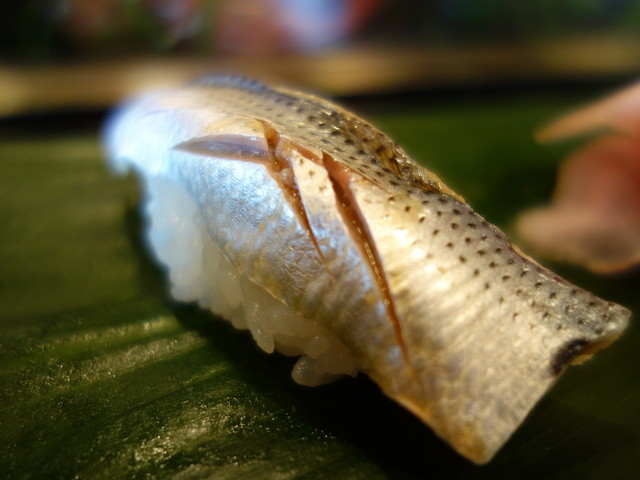spotted-shad: (96, 68, 633, 468)
